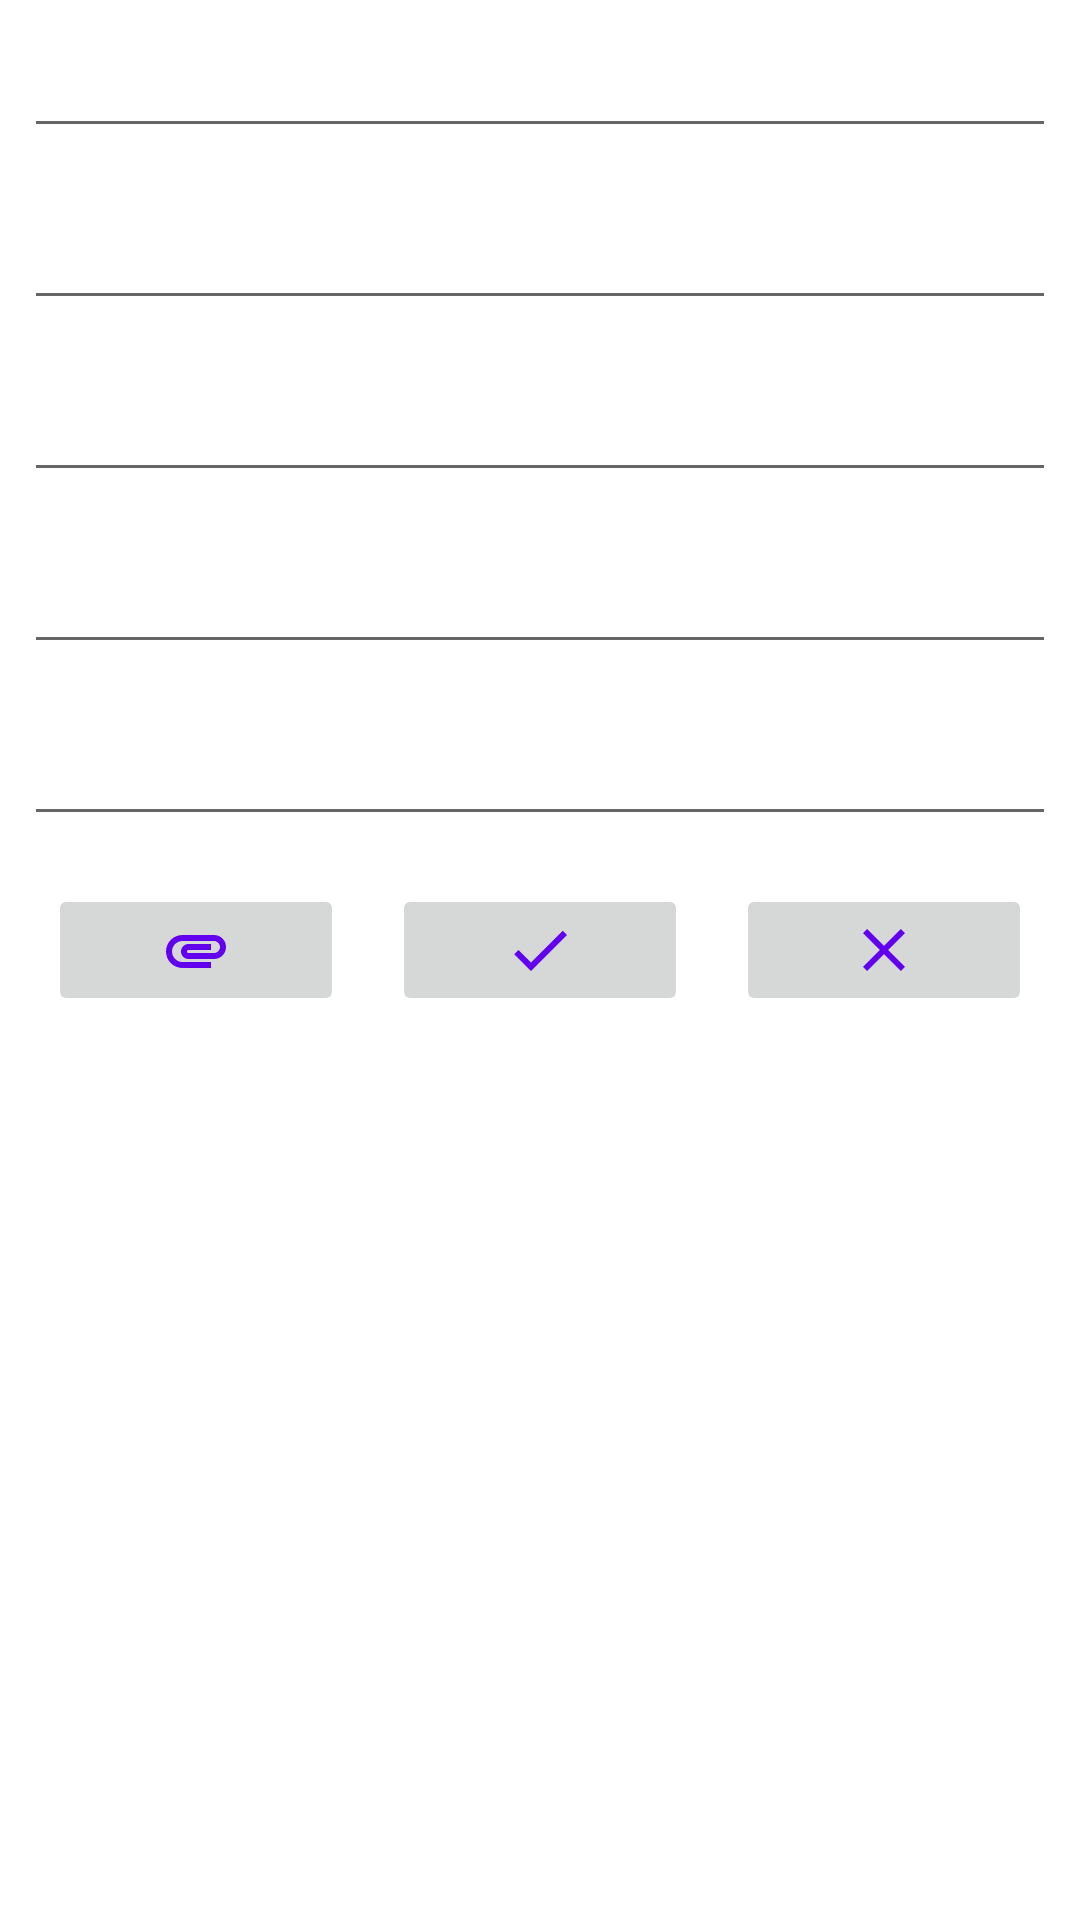

Named icons in this screenshot (1080x1920) and their bounding boxes, (x1, y1, x2, y2):
Attachment: (60, 902, 332, 998)
Cancel: (748, 902, 1020, 998)
Save: (404, 902, 676, 998)
